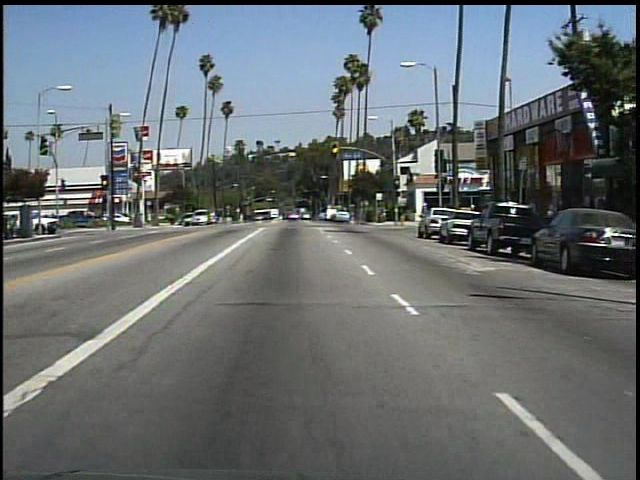person: (417, 196, 437, 221)
